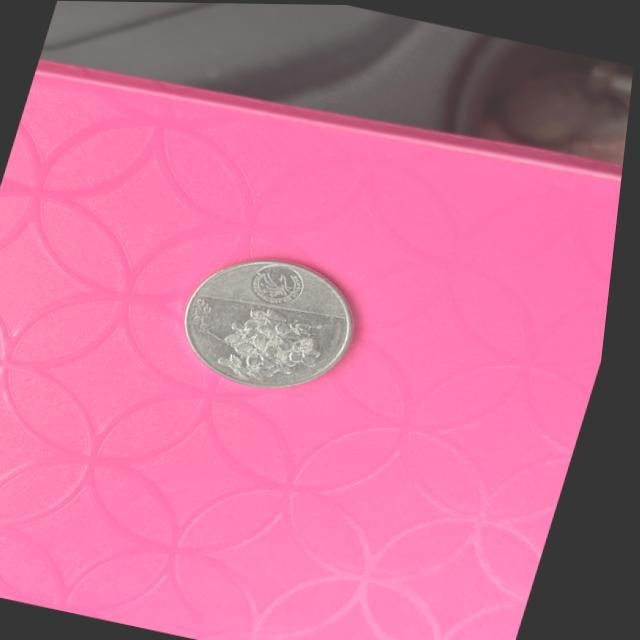1_New_Back: (210, 296, 340, 390)
